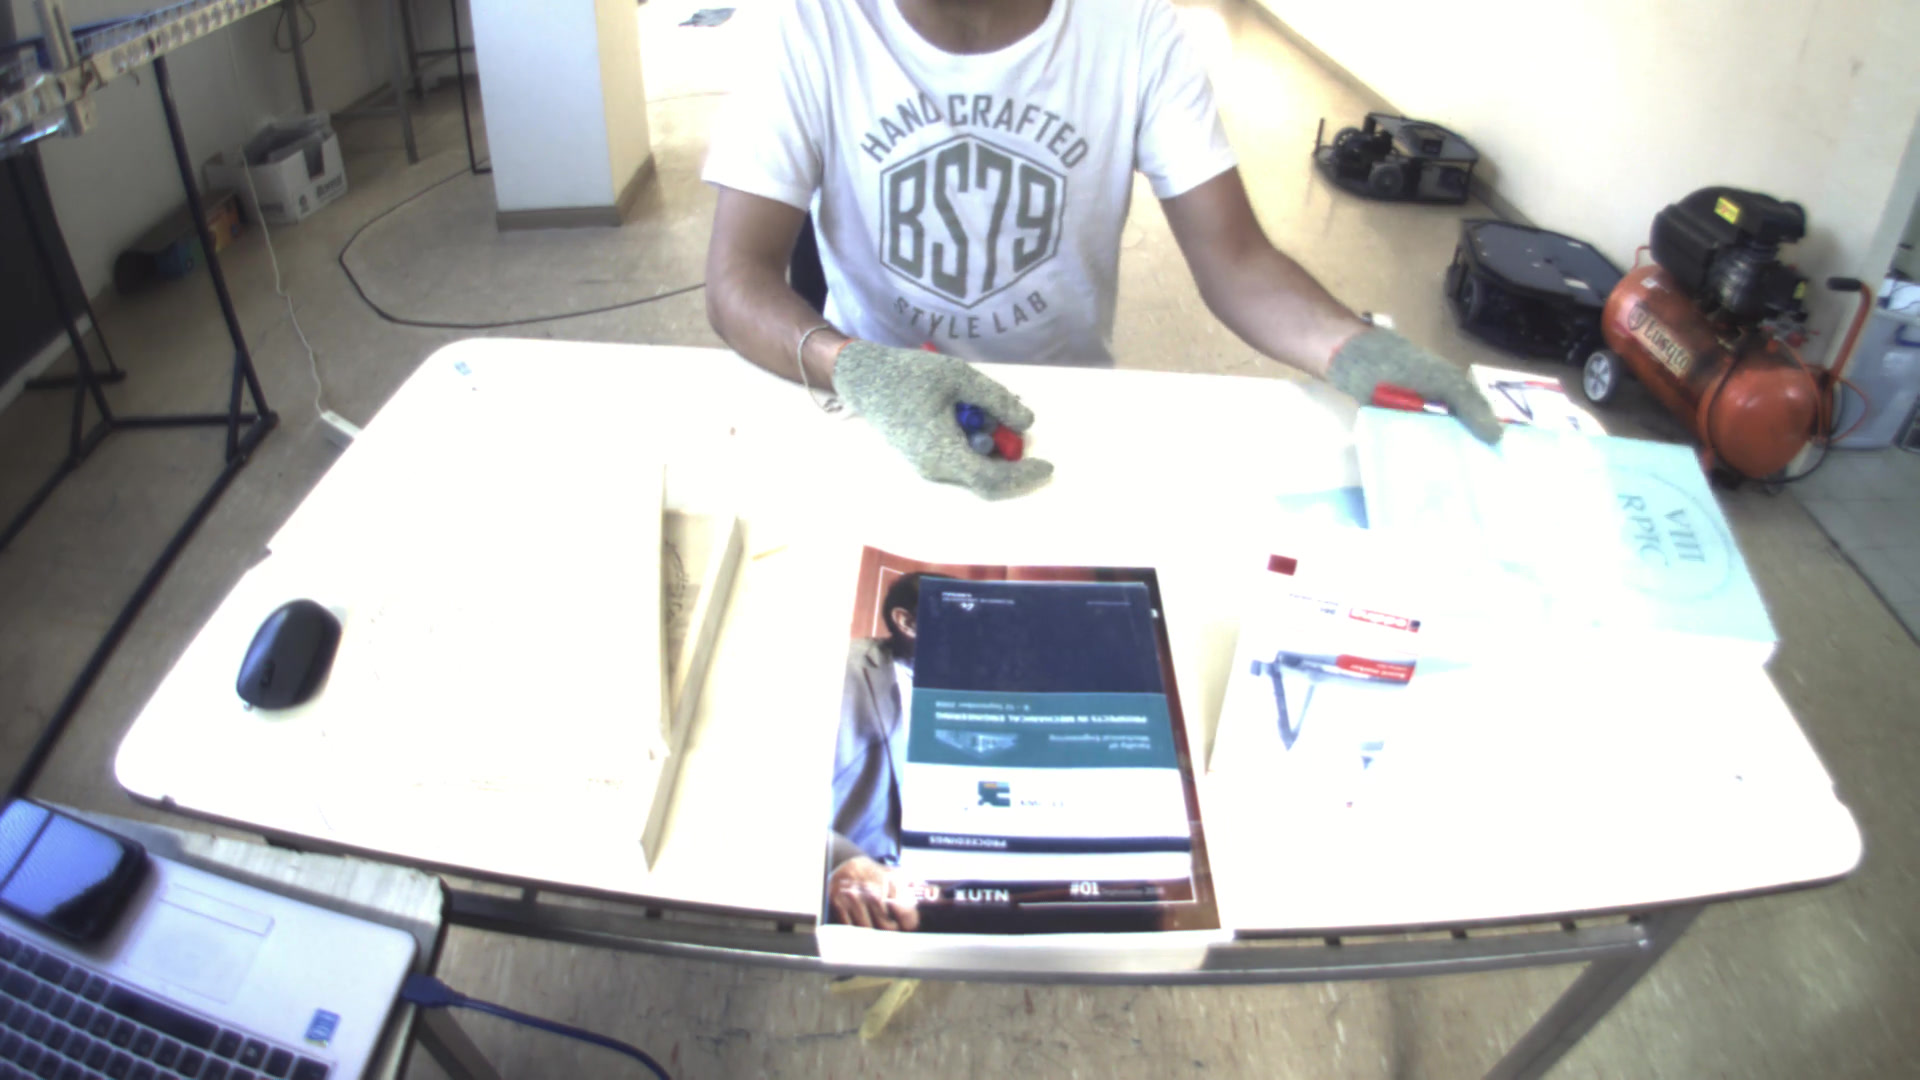hand: (819, 327, 1054, 505), (1307, 316, 1524, 434)
